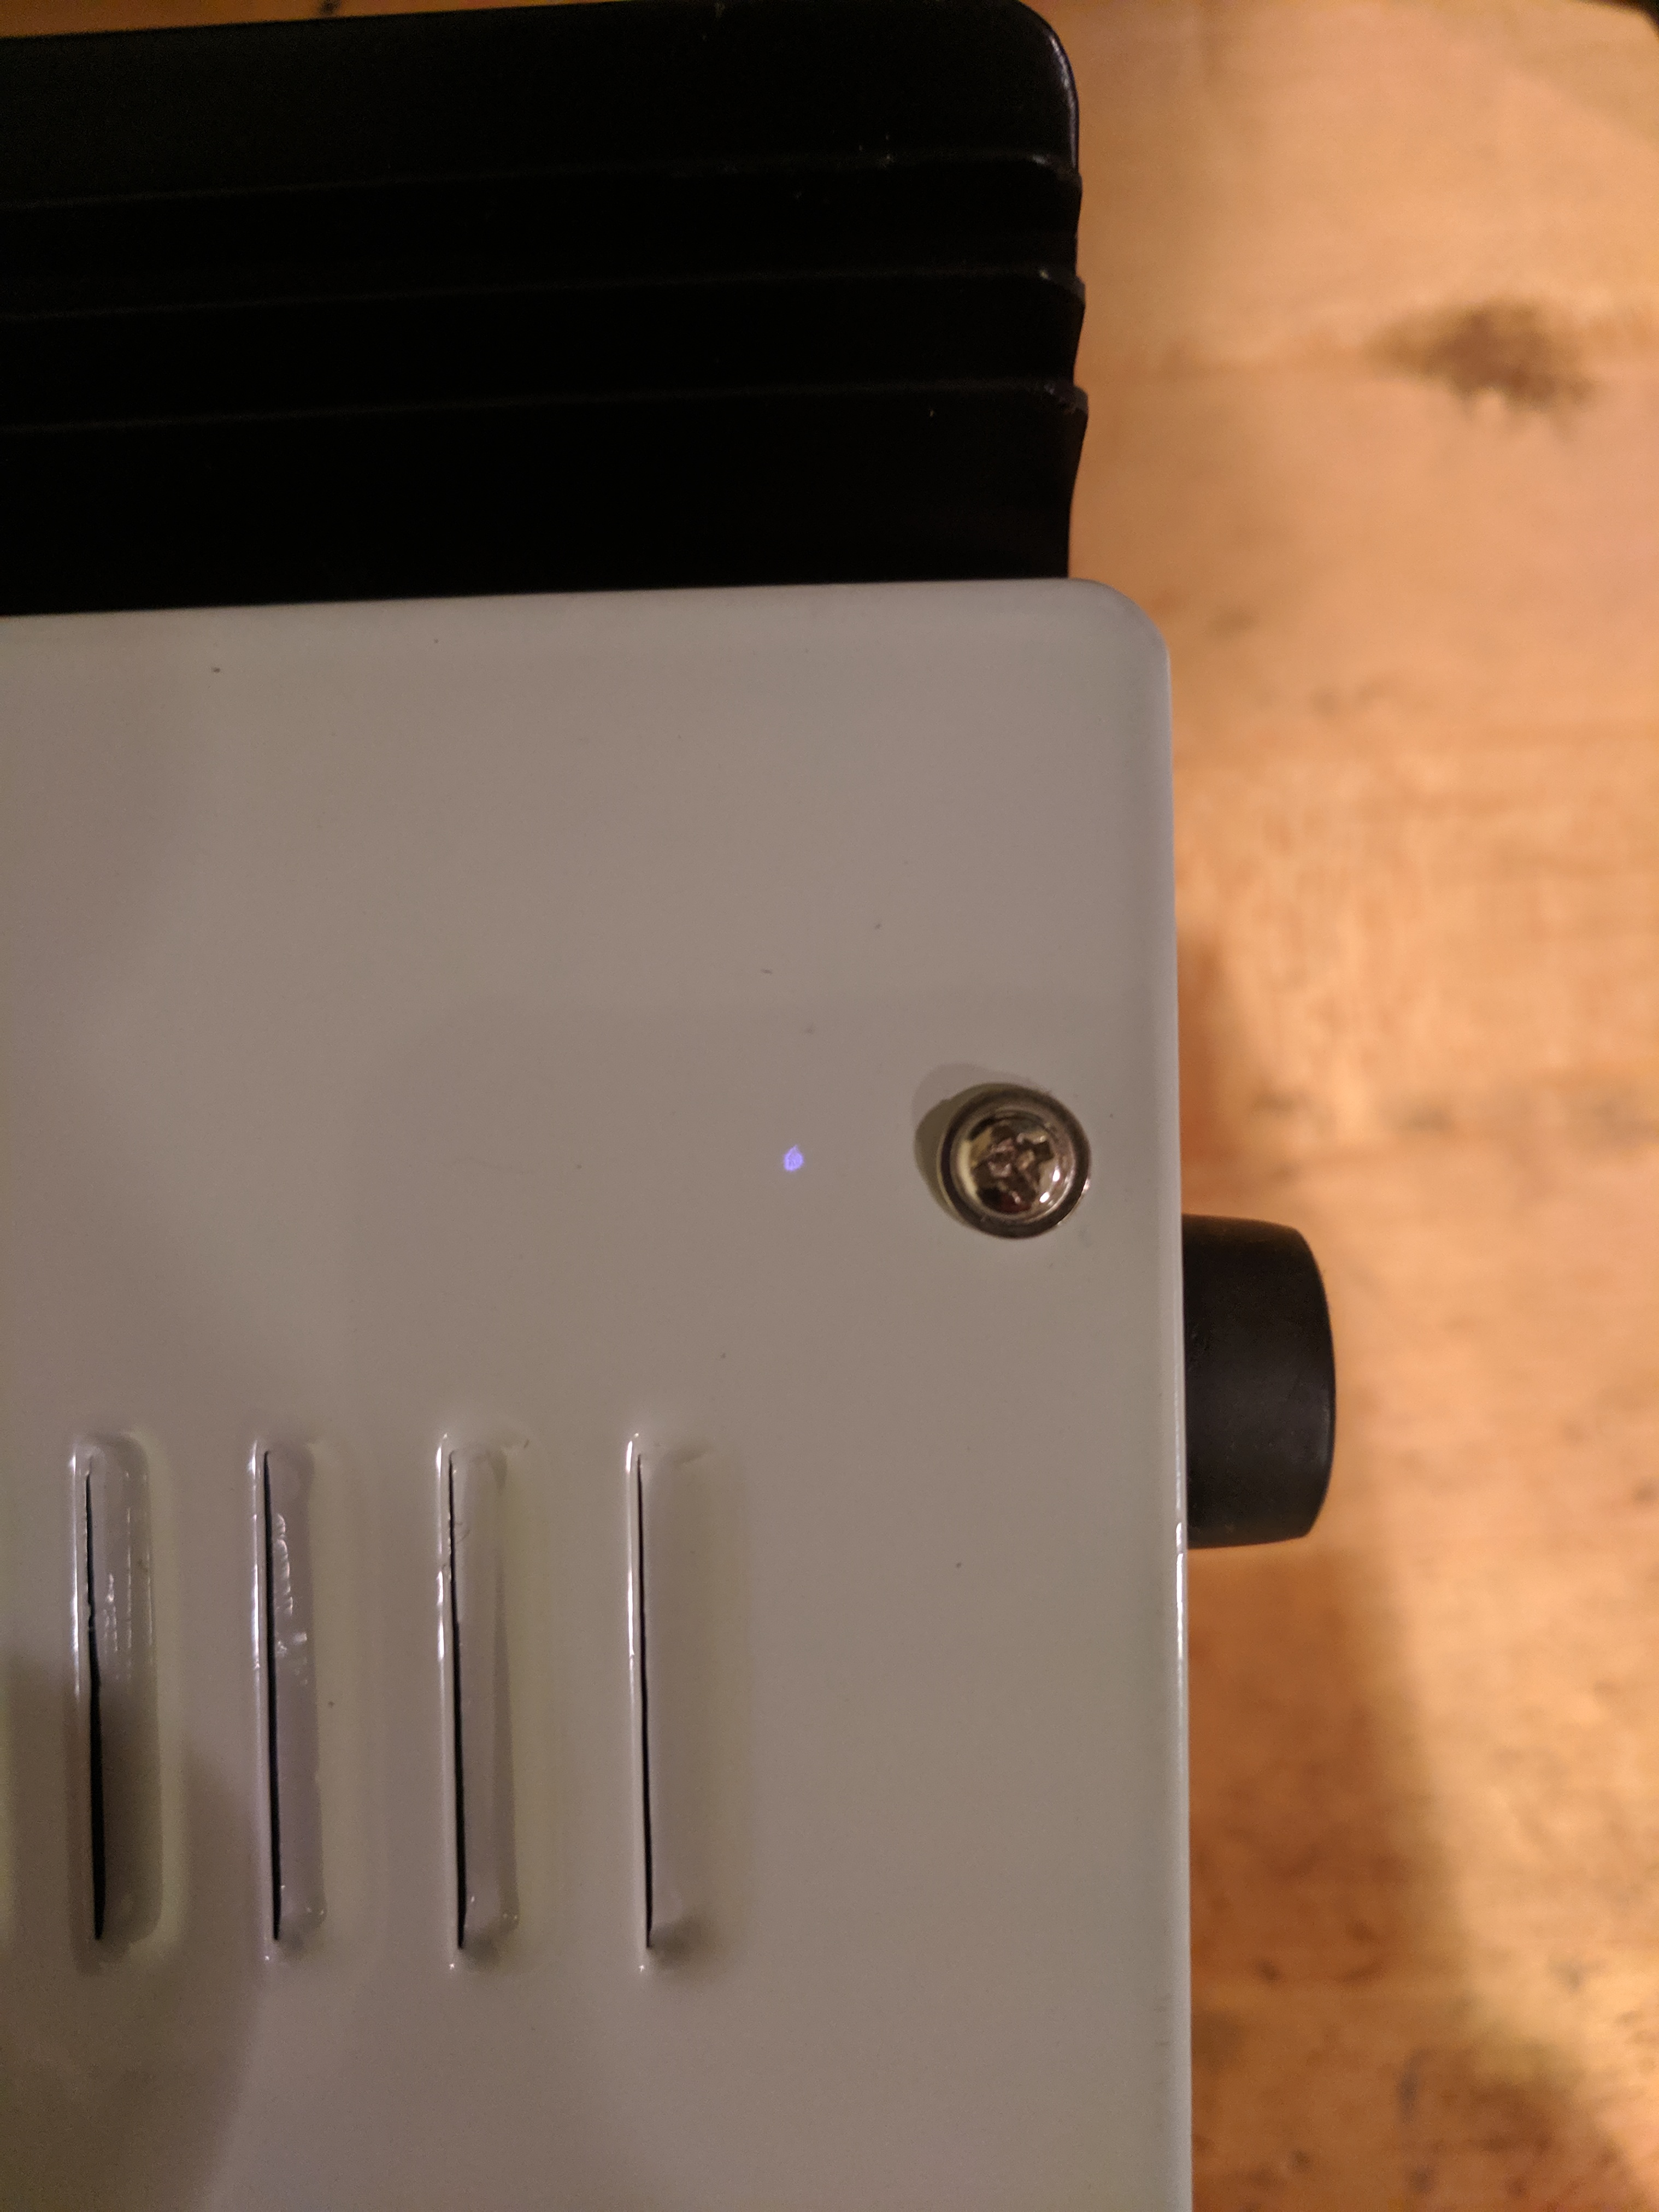cross_recessed_screw: (945, 1089, 1079, 1221)
